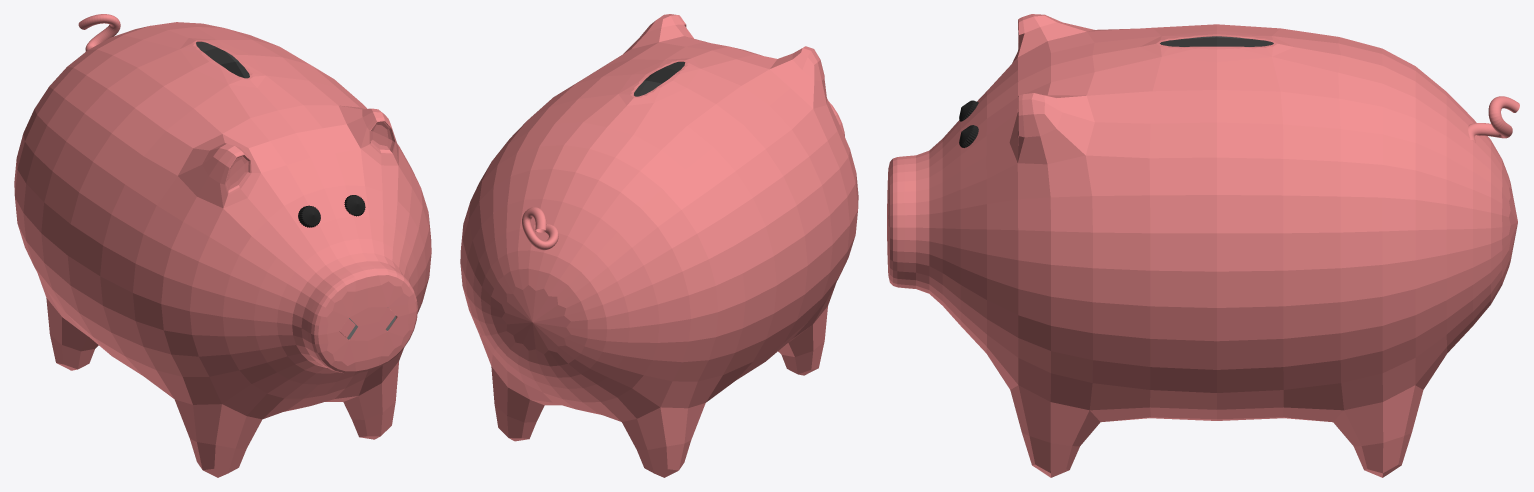
Rendered from PiggyMaterrial.fbx.
3 views of the same model, side by side, from view 1: azimuth 30°, elevation 25°; view 2: azimuth 150°, elevation 25°; view 3: azimuth 270°, elevation 25° (orthographic). The views are drawn at different scales.
Visible parts, largest first — view 1: Circle; view 2: Circle; view 3: Circle.
Part boxes in pixels (<box>): Circle: <box>14,14,431,477</box>; Circle: <box>460,14,858,477</box>; Circle: <box>887,14,1519,477</box>.
Size of the model in its own units: 801 by 855 by 1247.
